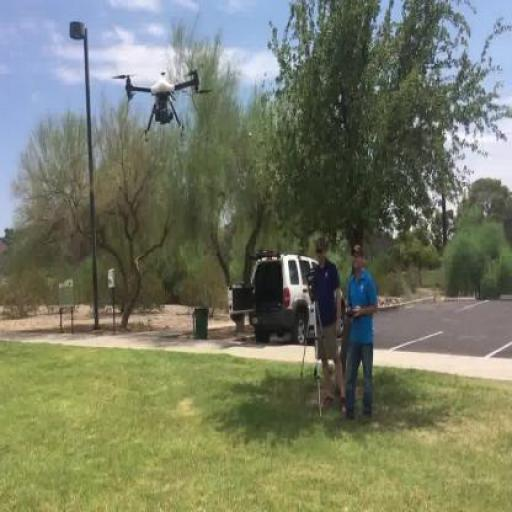drone: (114, 67, 212, 136)
